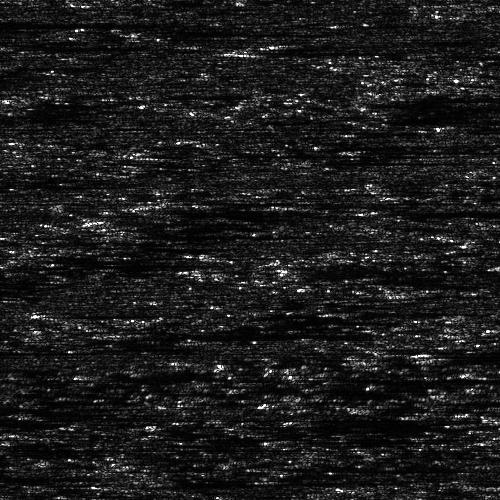rock: (203, 45, 296, 58), (0, 310, 53, 315), (0, 41, 16, 48), (484, 263, 500, 268)
shadow: (0, 14, 184, 29), (250, 45, 371, 58), (1, 41, 171, 48), (17, 310, 67, 315)
